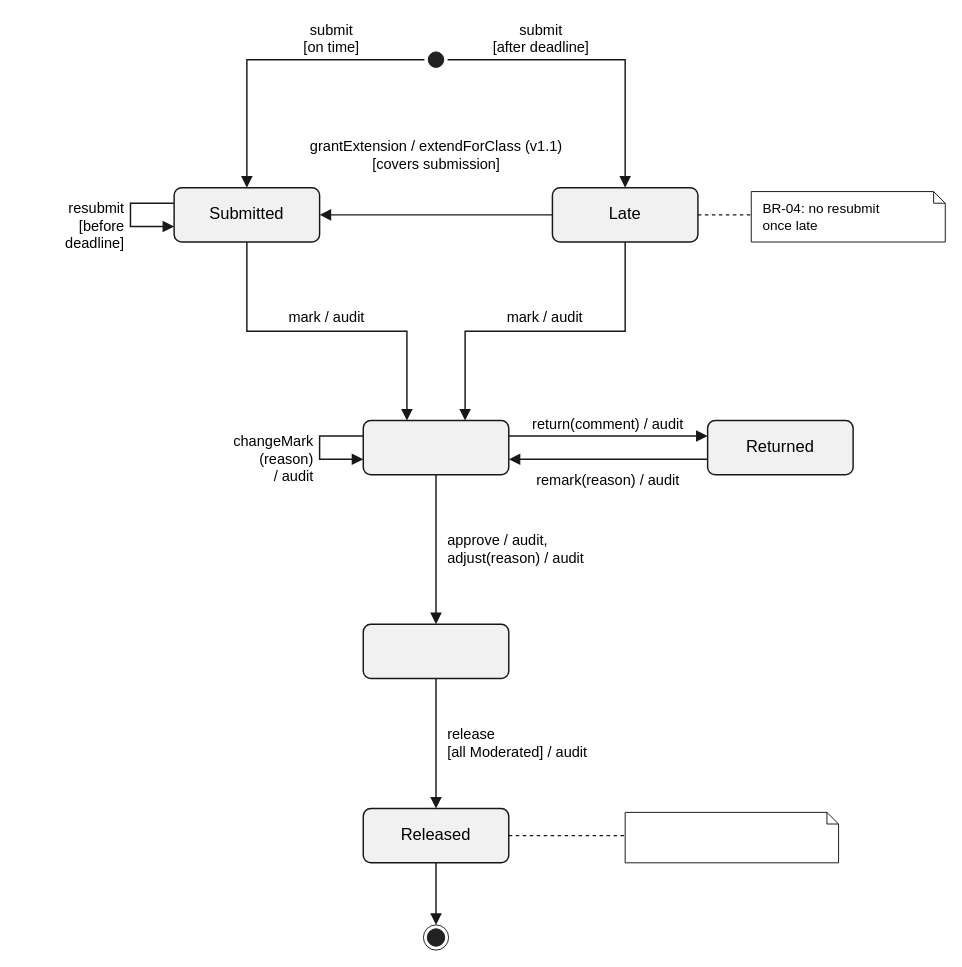
The diagram is 962 pixels wide and 967 high, and some of its shapes have lost their labels. The shapes that lost their labels are listed below. From the top down, each one's box as (x1, y1, x2, y2) in pixels, then its label:
(362, 419, 509, 475): Marked
(362, 623, 509, 679): Moderated
(624, 811, 839, 863): FR-20: the student sees the mark only now
